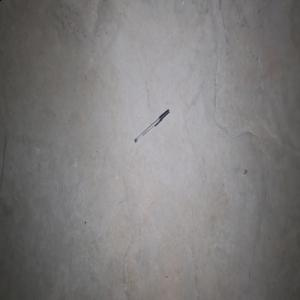Pen: (134, 109, 169, 142)
